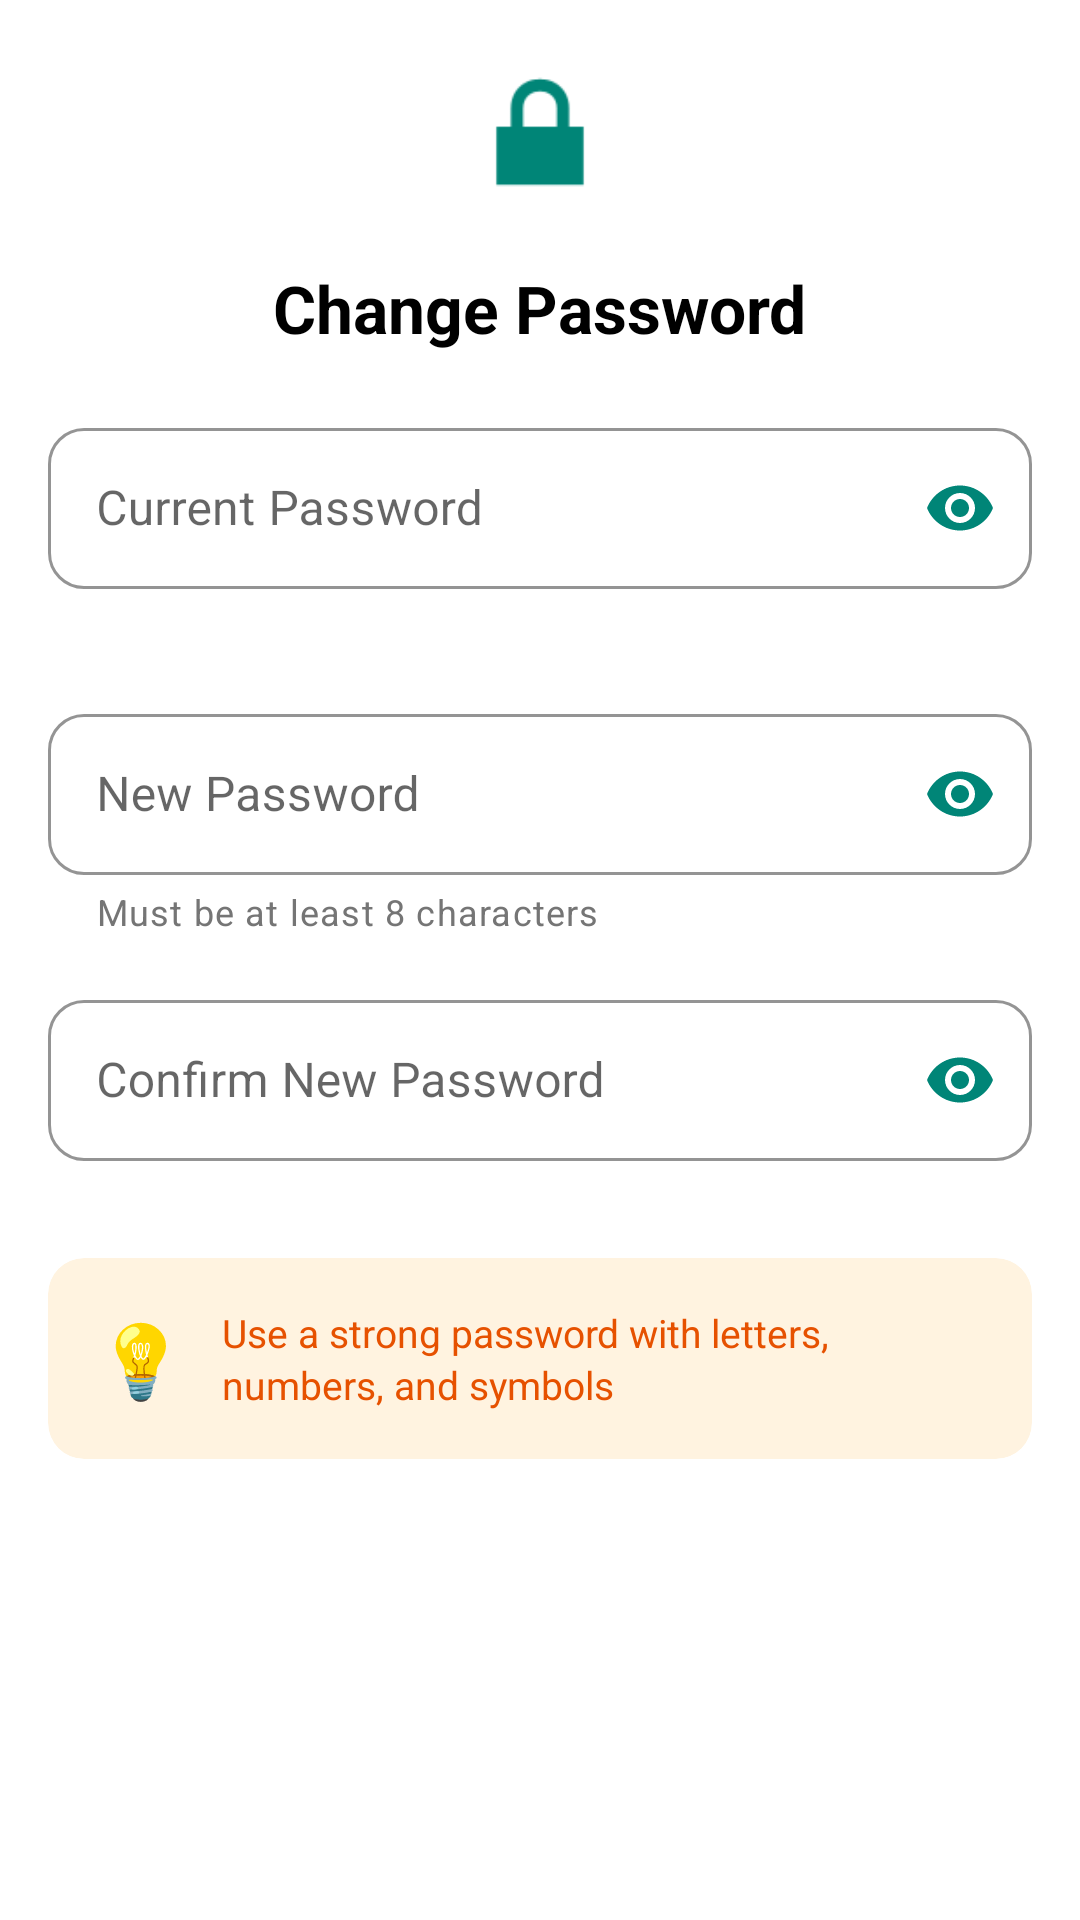

Screen size 1080×1920. Icon name, then its box in pixels as {"left": x1, "top": y1, "right": x2, "bottom": y2}:
lock: {"left": 496, "top": 78, "right": 584, "bottom": 186}
